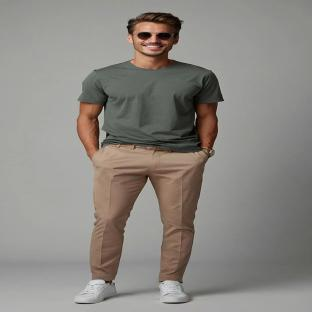Human: (75, 12, 223, 303)
